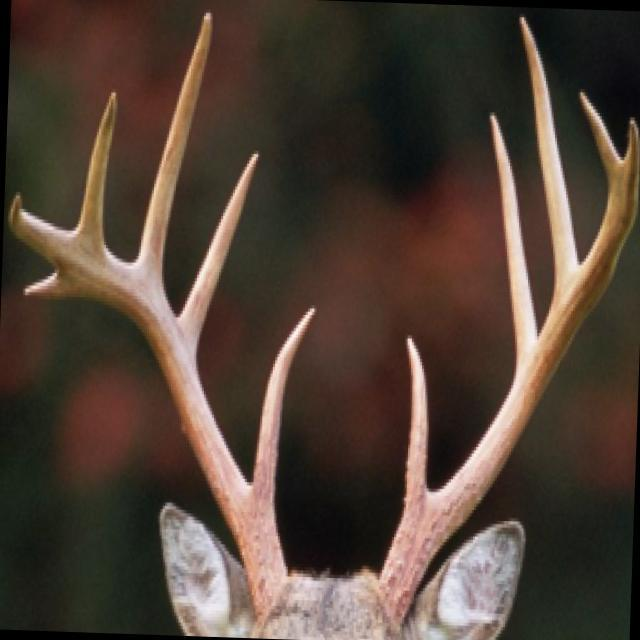L-F: (376, 115, 640, 630)
L-G1: (403, 332, 429, 507)
L-G2: (488, 107, 538, 378)
L-G3: (518, 11, 580, 298)
L-G4: (576, 87, 622, 193)
R-F: (6, 188, 289, 634)
R-G1: (251, 303, 317, 518)
R-G2: (176, 147, 261, 364)
R-G3: (132, 8, 213, 289)
R-G4: (74, 87, 119, 247)
R-G5: (20, 268, 76, 301)
